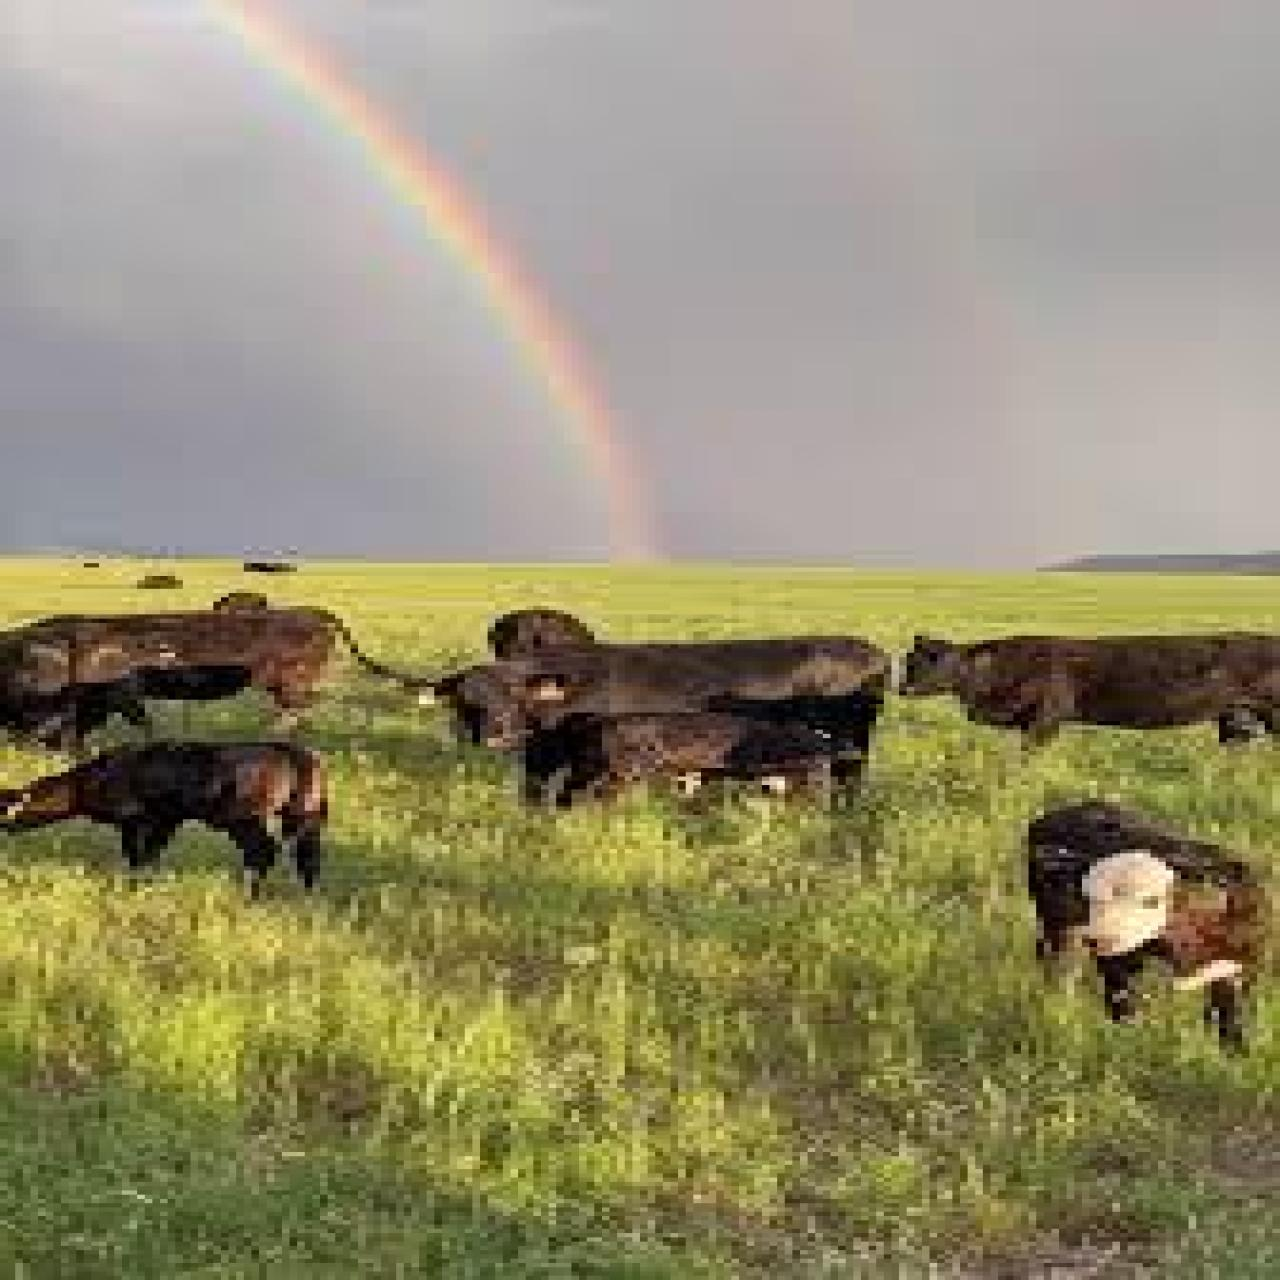cow: (396, 635, 899, 810), (1021, 796, 1280, 1061), (7, 741, 327, 903), (899, 627, 1280, 755), (61, 608, 442, 731), (522, 710, 872, 812), (0, 620, 159, 762), (484, 606, 598, 661)
